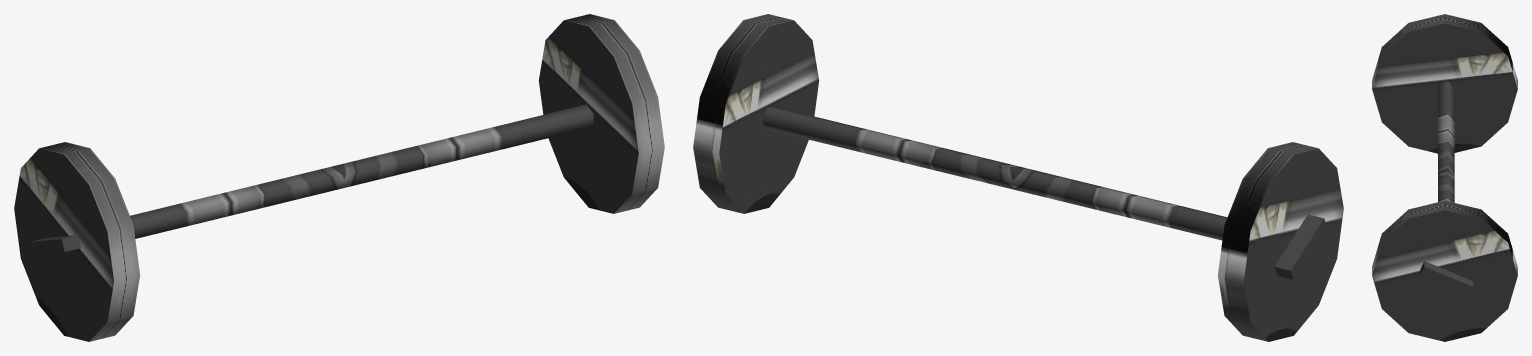
Rendered from Barbell01.glb.
3 renders of one model, left to right at view 1: azimuth 30°, elevation 25°; view 2: azimuth 150°, elevation 25°; view 3: azimuth 270°, elevation 25°, orthographic. The views are drawn at different scales.
Bounding box in the file's own units: 0.7795 × 0.2315 × 0.2315.
1 material, 1 textured.
